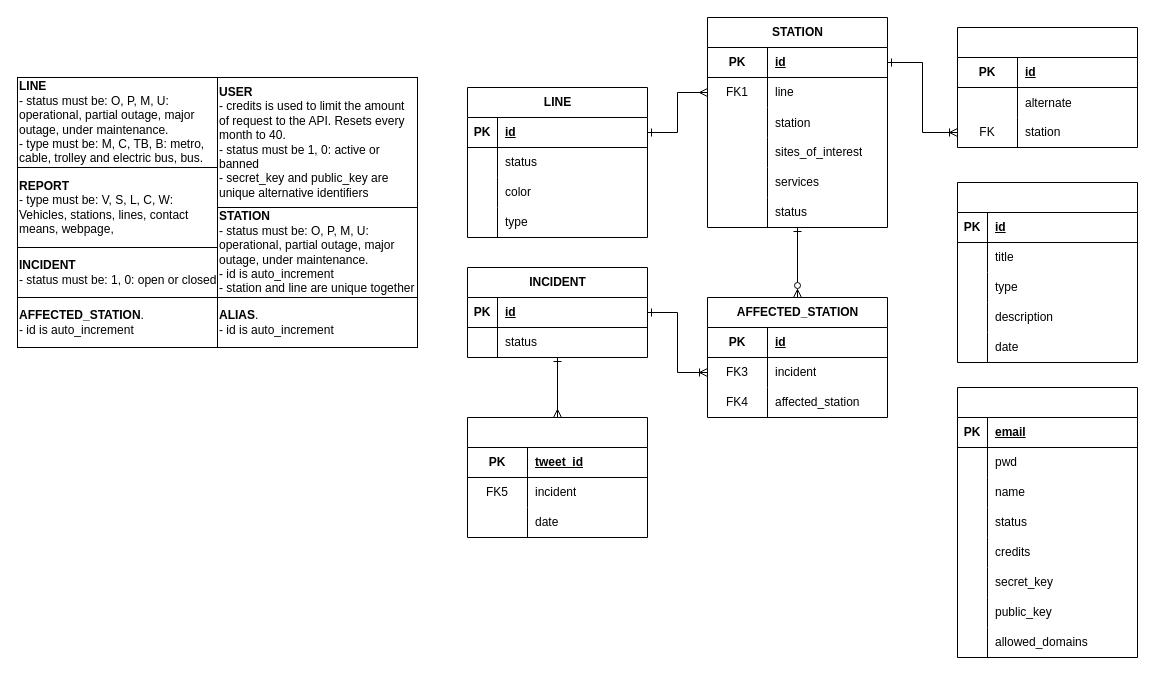
The diagram is 1155 pixels wide and 675 high, and some of its shapes have lost their labels. The shapes that lost their labels are listed below. From the top down, each one's box as (x1, y1, x2, y2) in pixels, then its label:
(956, 26, 1138, 148): ALIAS
(956, 182, 1138, 362): REPORT
(466, 416, 648, 538): NOTIFICATION
(956, 386, 1138, 658): USER
